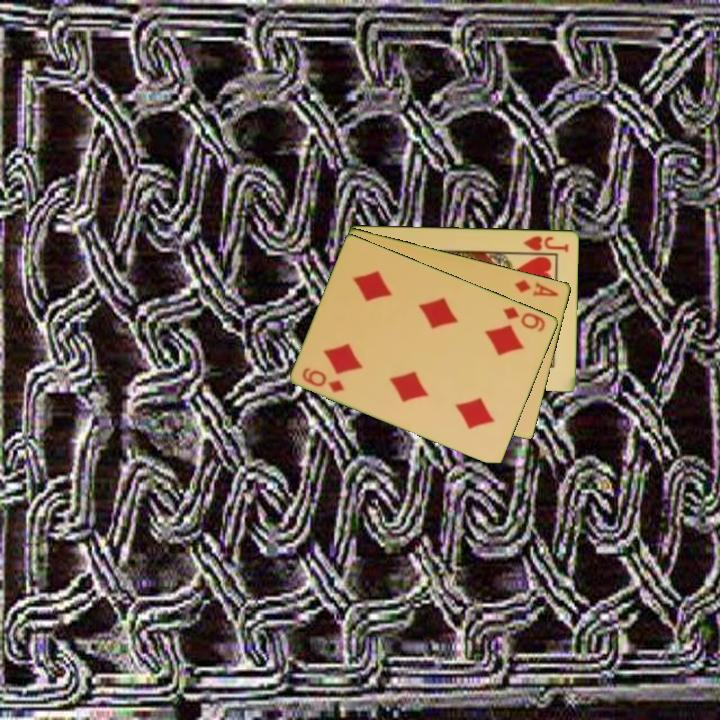6d: (499, 303, 549, 334), (299, 364, 347, 396)
Ad: (511, 276, 561, 300)
Jh: (516, 232, 572, 256)
